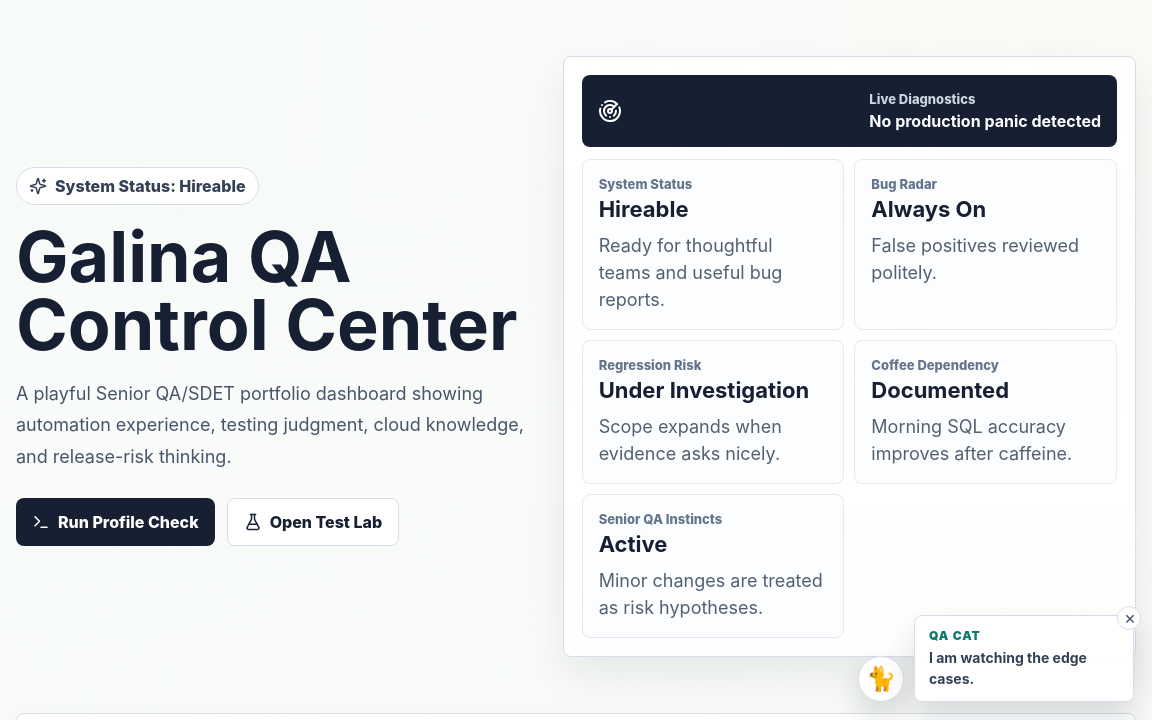
Test: Galina QA Control Center UI › includes the polished QA Cat pipeline message
This screenshot has width=1152, height=720.
Click the button named "Next QA Cat message": (881, 679) [858,656,904,702]
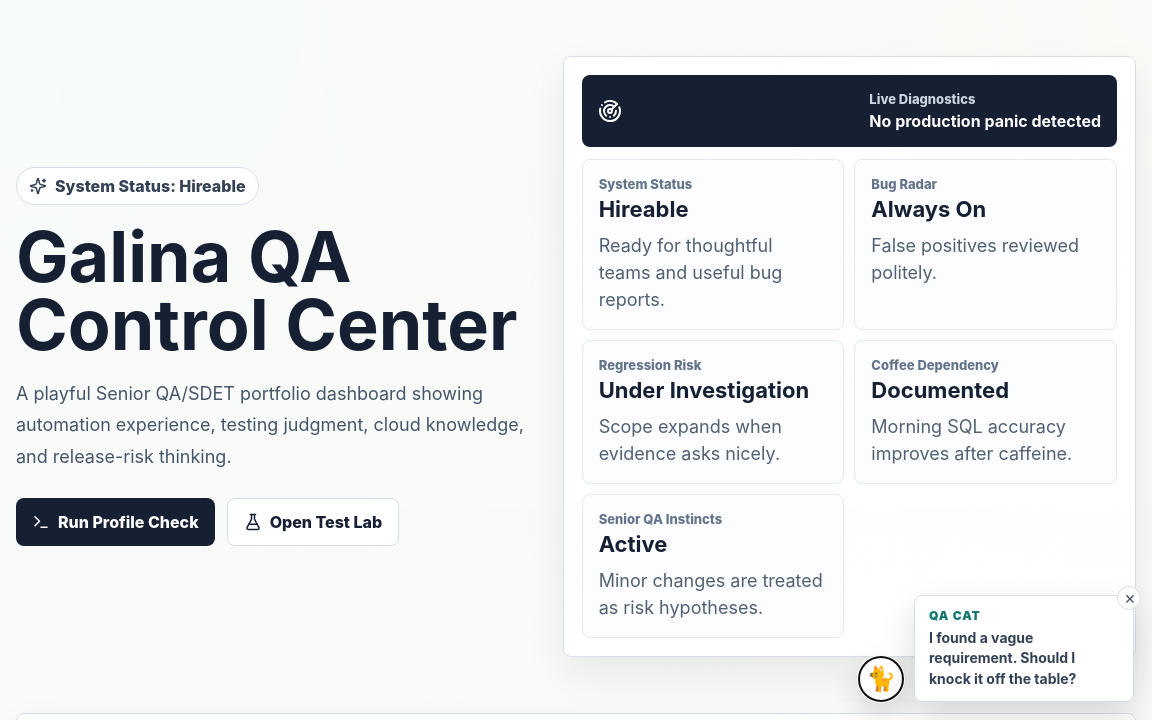
Click the button named "Next QA Cat message": (881, 679) [858,656,904,702]
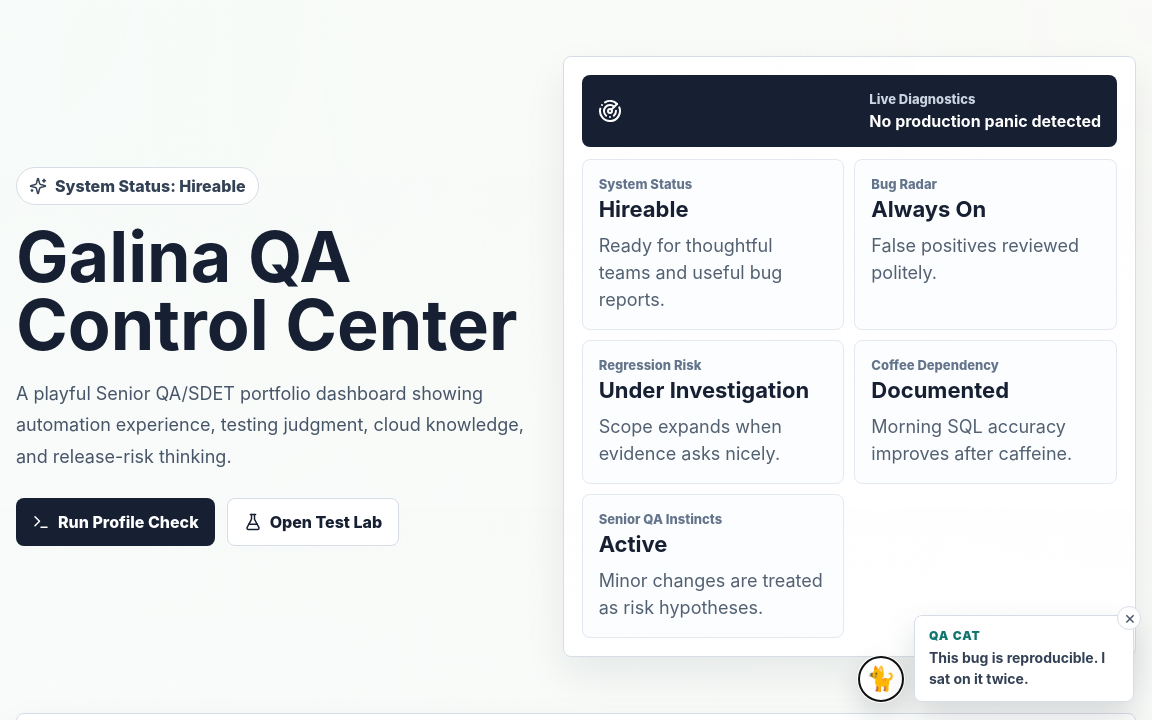
Click the button named "Next QA Cat message": (881, 679) [858,656,904,702]
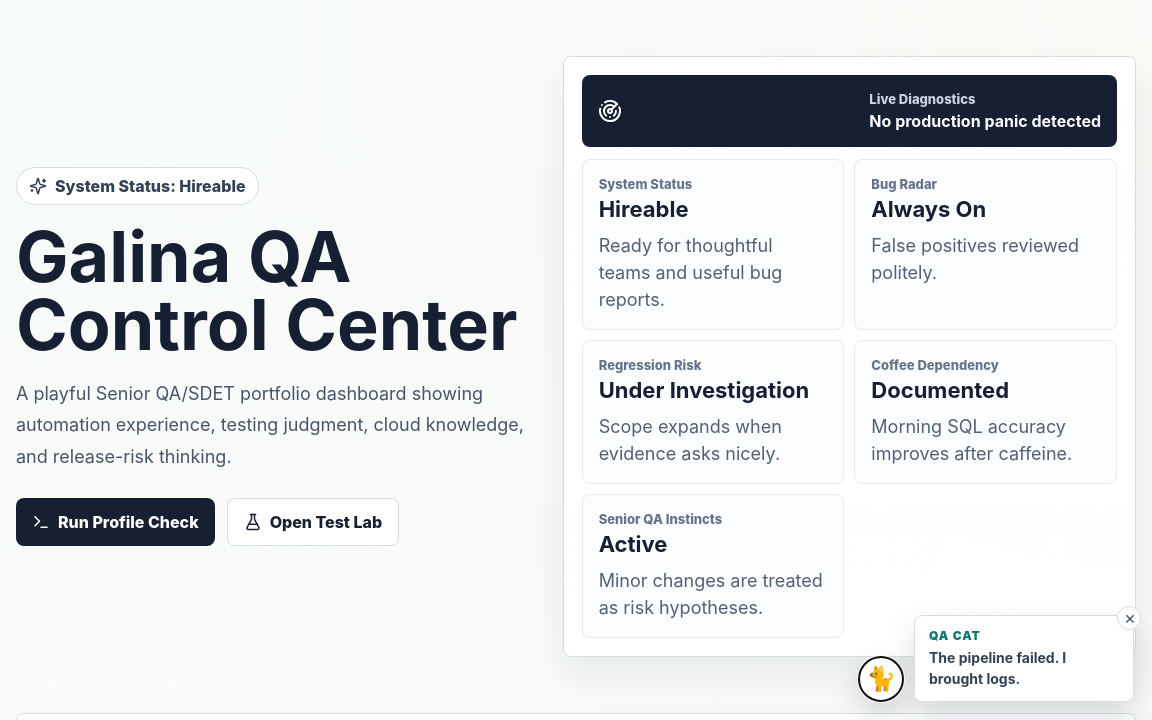
Now the element named "QA Cat widget" shows "The pipeline failed. I brought logs.", box [929,649,1066,687]
